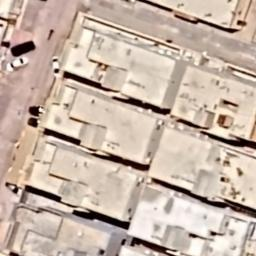sedan: (9, 35, 37, 58), (5, 55, 30, 74)
